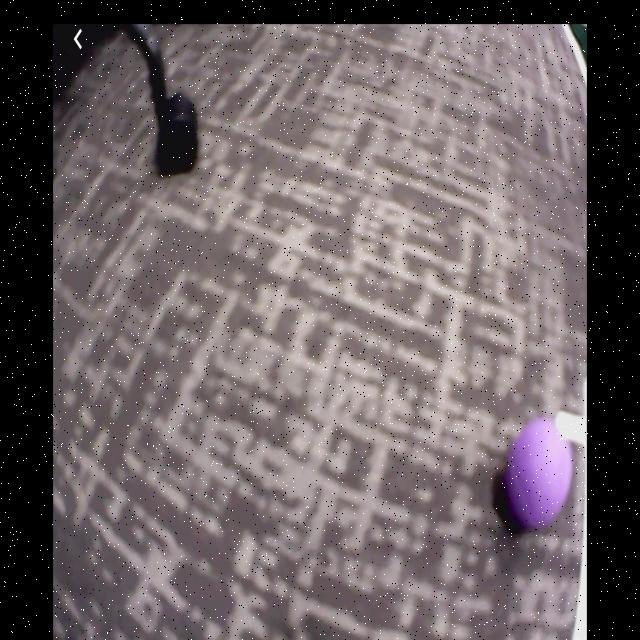ball: (505, 416, 576, 532)
